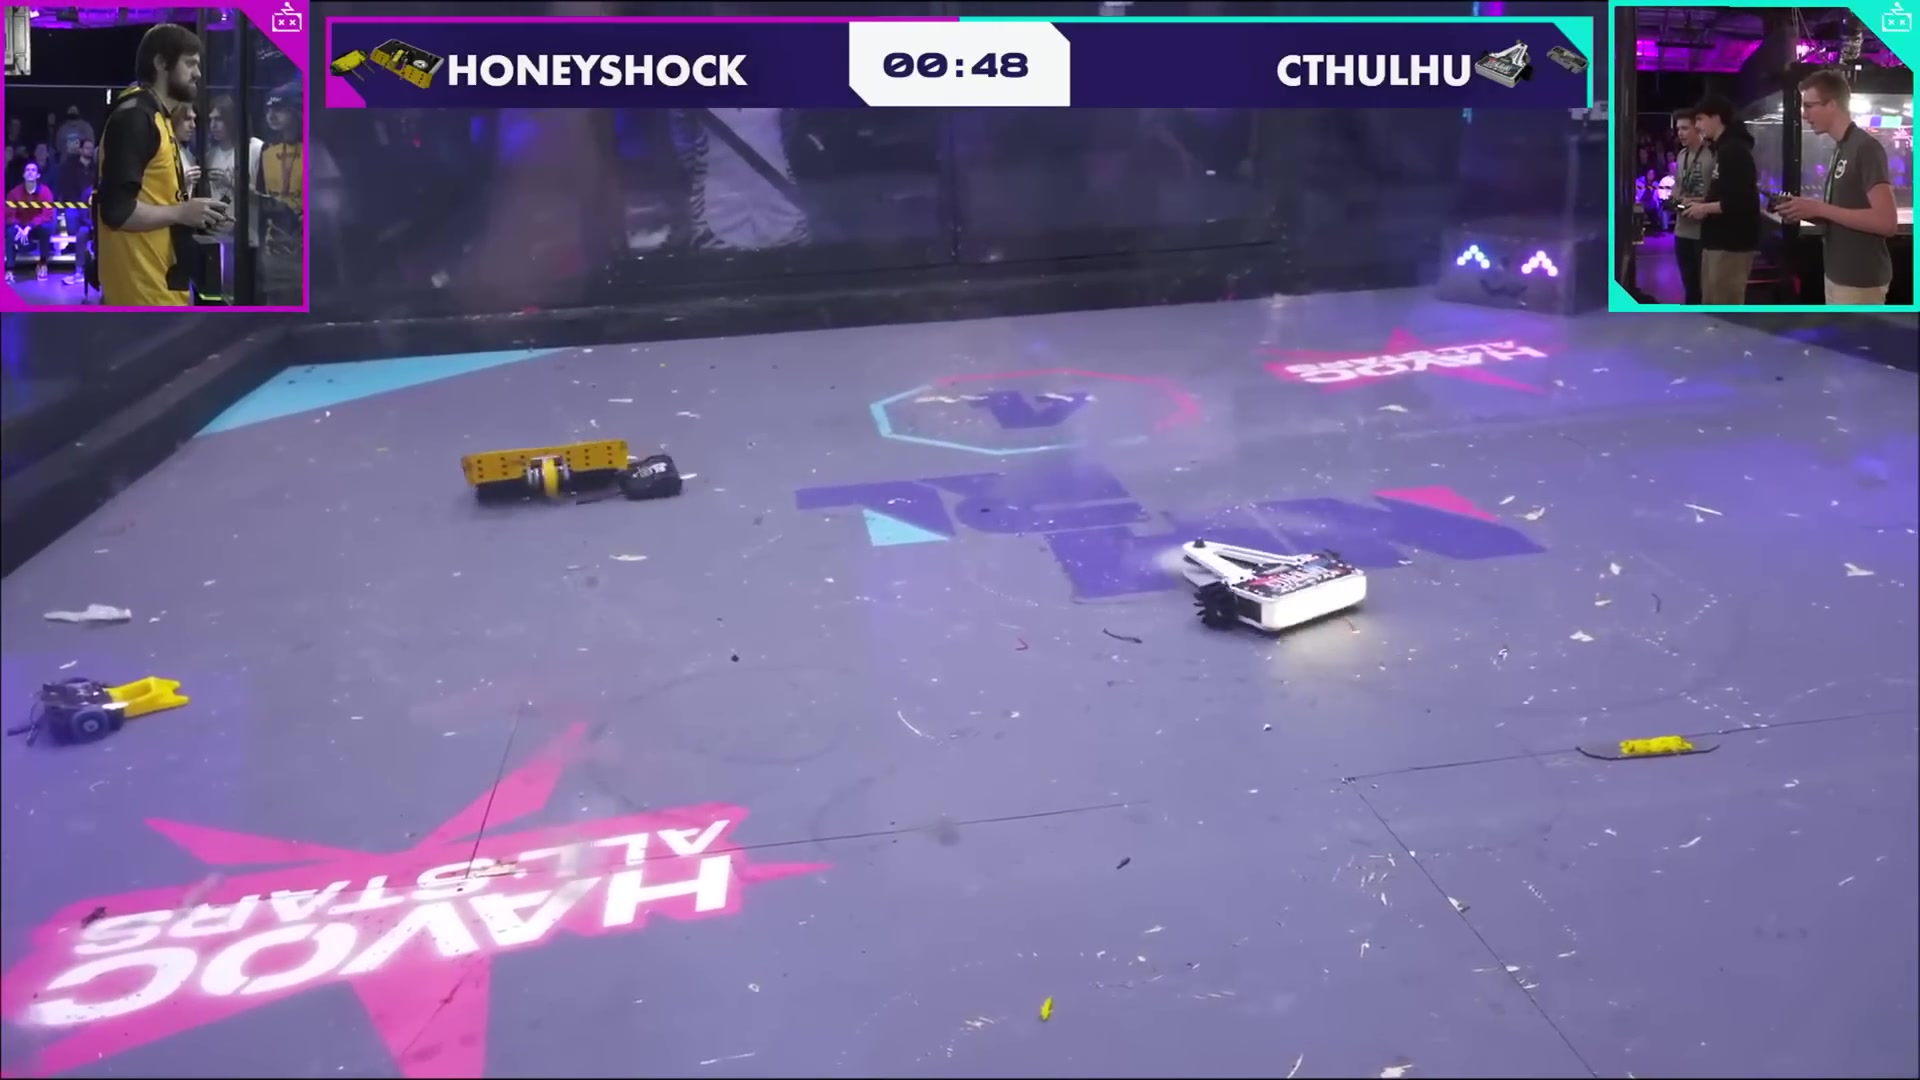belt: (1573, 745, 1724, 765)
combatbot: (1180, 538, 1367, 632), (464, 438, 622, 496)
debris: (50, 603, 140, 625), (1617, 735, 1687, 754)
housebot: (1439, 218, 1605, 319)
minibot: (34, 676, 199, 741), (621, 456, 682, 498)
